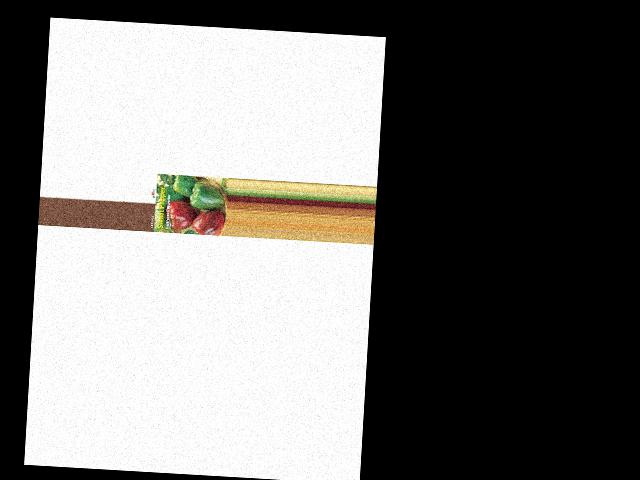bell_pepper: (170, 173, 202, 195)
